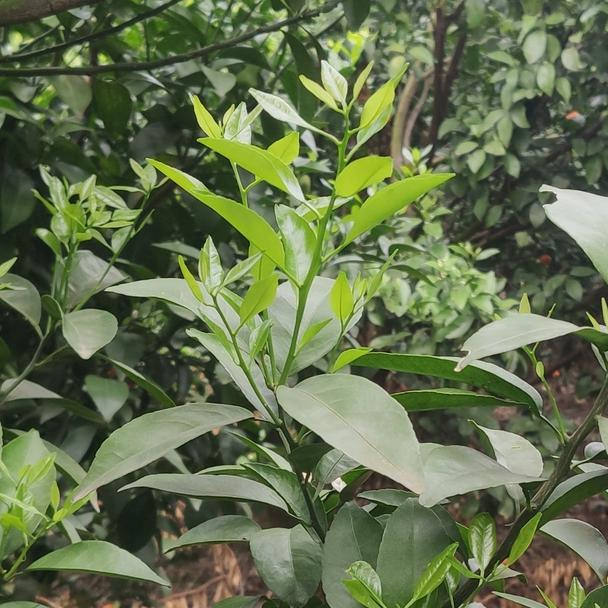shoot: (215, 66, 459, 325), (168, 235, 276, 400)
